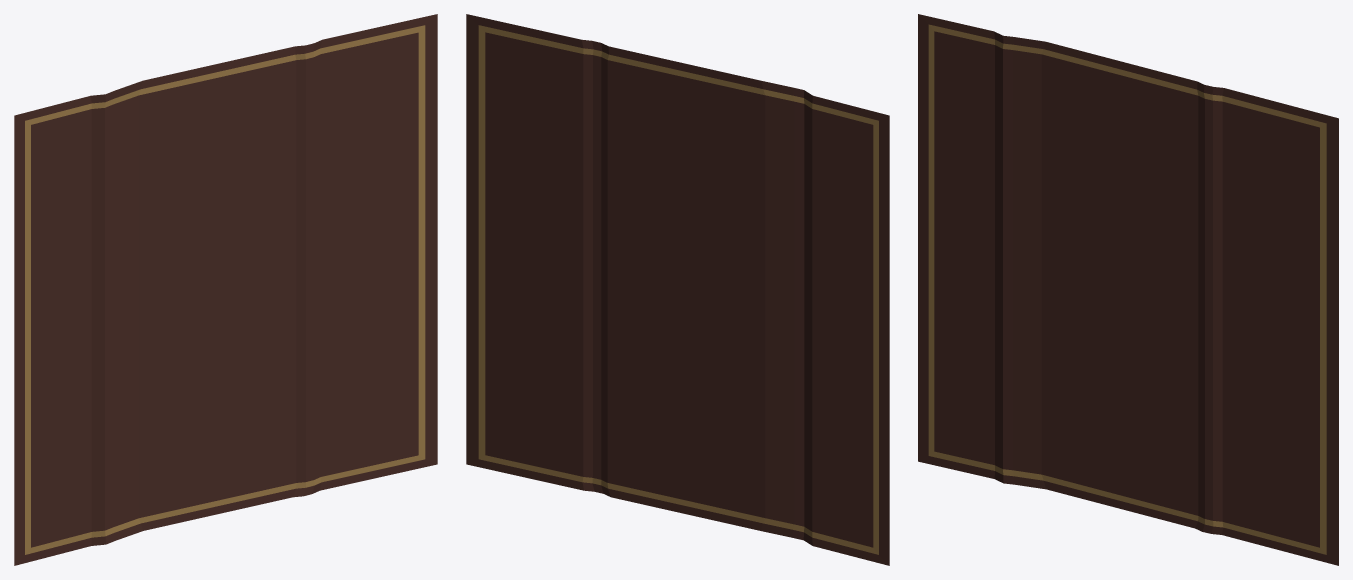
File: rug-large.obj
The picture shows the model from 3 angles, left to right: view 1: azimuth 30°, elevation 25°; view 2: azimuth 150°, elevation 25°; view 3: azimuth 330°, elevation 25°; orthographic projection.
Parts seen in each view (by area): view 1: rug-large; view 2: rug-large; view 3: rug-large.
Part boxes in pixels (x1,y1,x2,y2): rug-large: [14, 14, 437, 565]; rug-large: [466, 14, 889, 565]; rug-large: [918, 14, 1338, 565].
Size of the model in its own units: 120 by 123 by 1.42.
